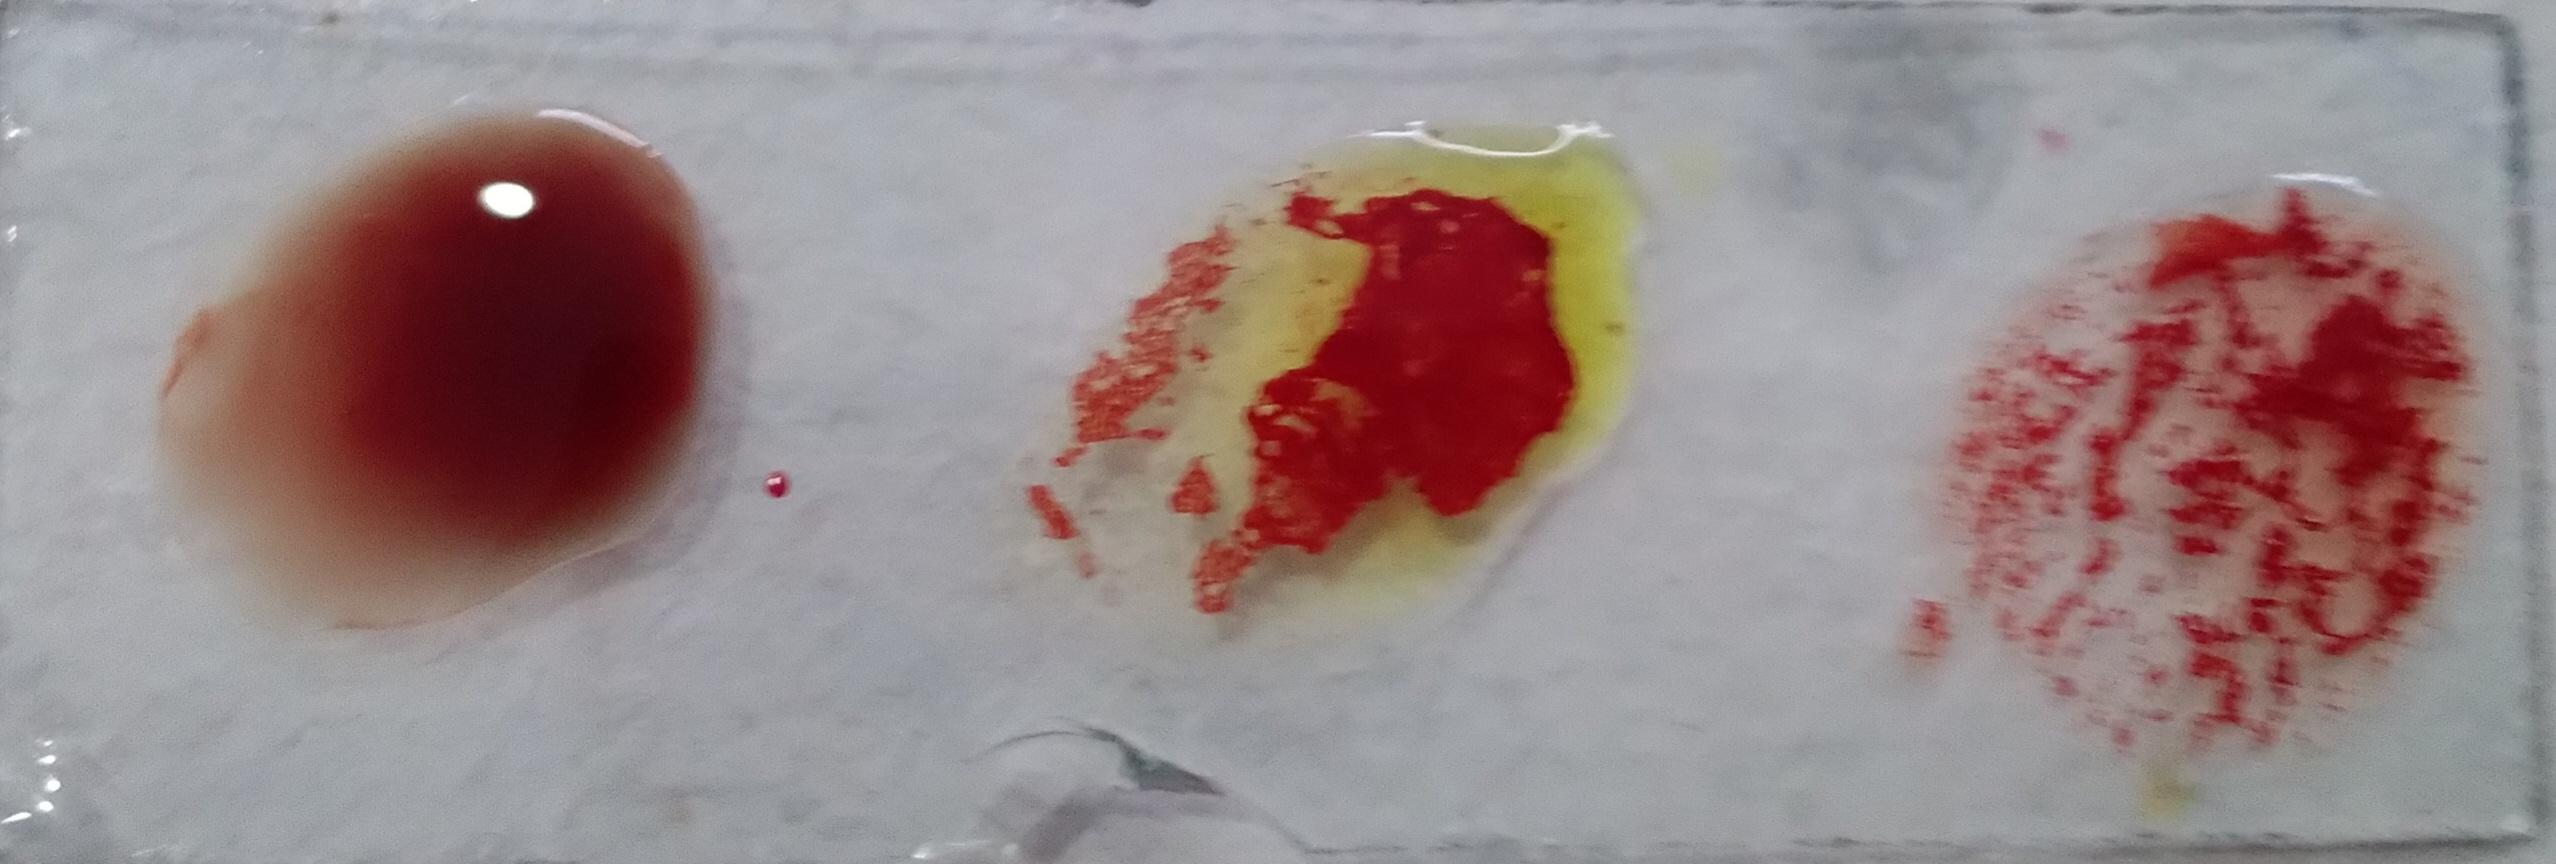B: (957, 174, 1472, 763)
D: (83, 88, 595, 641)
